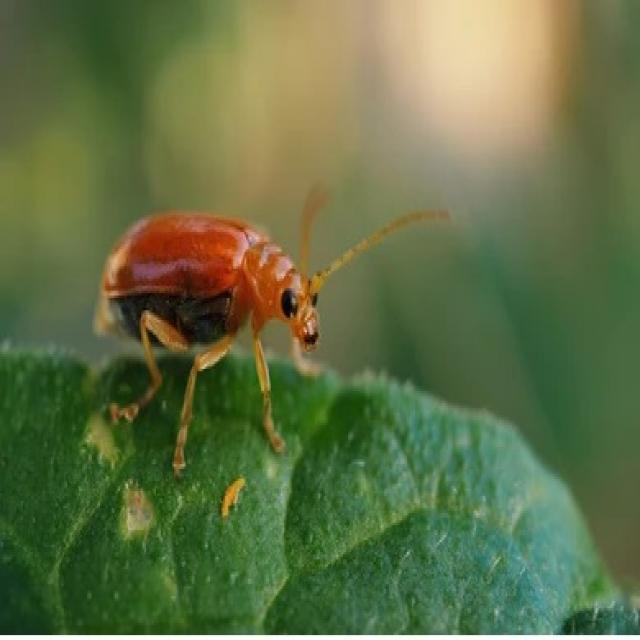Pumpkin Beetle: (89, 169, 462, 482)
